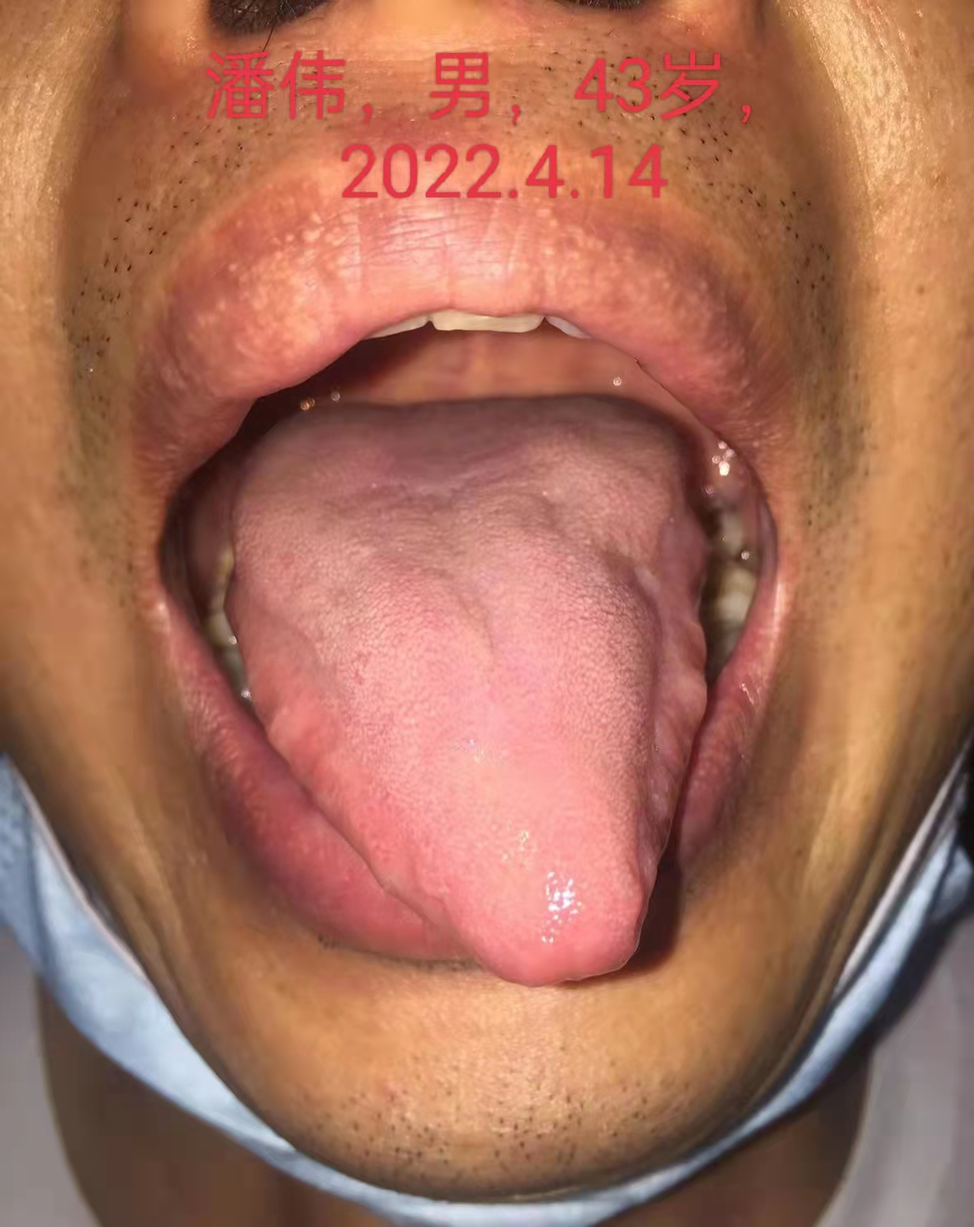baitaishe: (225, 396, 711, 988)
hongshe: (223, 395, 709, 986)
